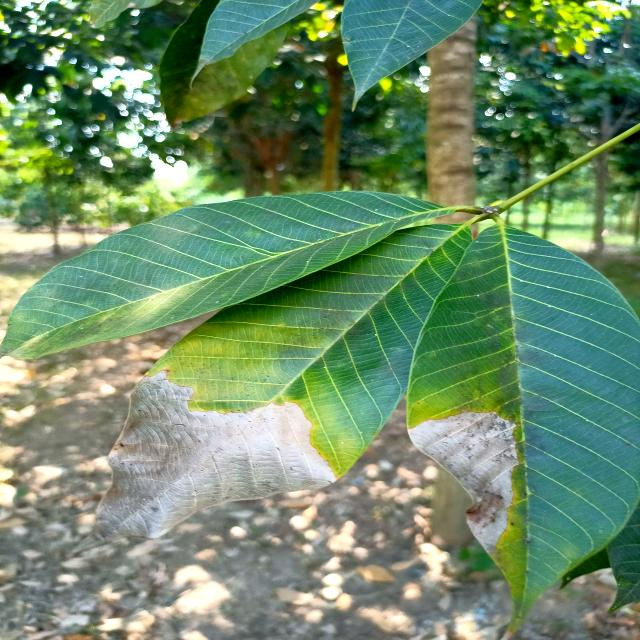Leaf-Blight: (75, 373, 338, 552), (408, 412, 518, 554)
